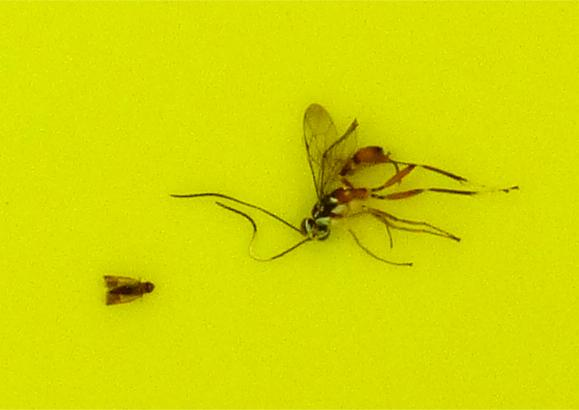Hemiptera: (100, 272, 158, 310)
Hymenoptera: (167, 100, 479, 263)
